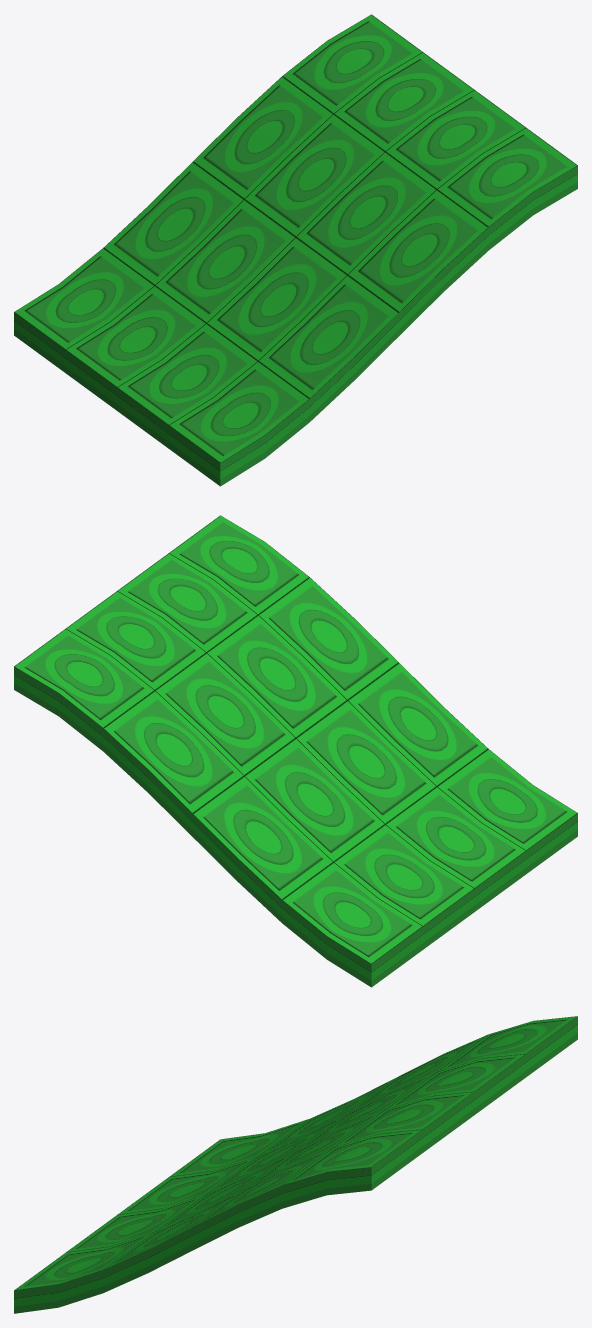
Rendered from RampUp.fbx.
3 views of the same model, one above another, from view 1: azimuth 30°, elevation 25°; view 2: azimuth 150°, elevation 25°; view 3: azimuth 330°, elevation 25° (orthographic).
Visible parts, largest first — view 1: RampUp; view 2: RampUp; view 3: RampUp.
Boxes of the visible parts, bbox=[...] form: RampUp: bbox=[14, 14, 577, 486]; RampUp: bbox=[14, 515, 577, 987]; RampUp: bbox=[14, 1016, 577, 1313].
Bounding box in the file's own units: 4 × 2.5 × 4.
Materials: 1 (1 with a texture image).
